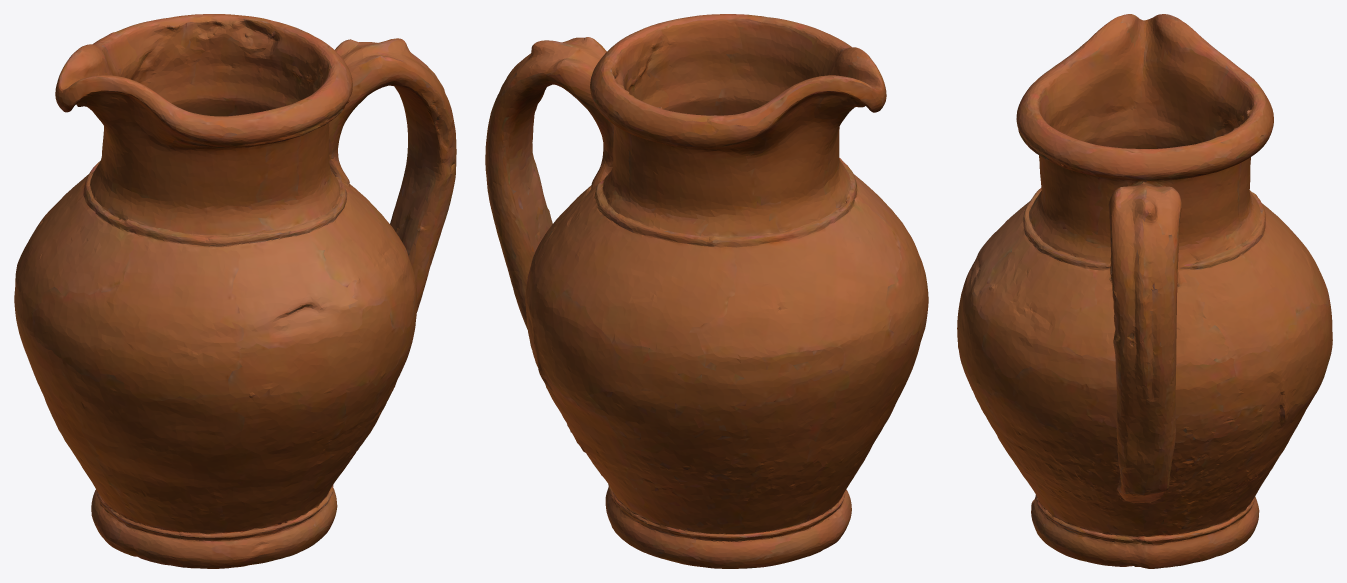
The model's file is prop_pottery_01.glb.
The picture shows the model from 3 angles, left to right: view 1: azimuth 30°, elevation 25°; view 2: azimuth 150°, elevation 25°; view 3: azimuth 270°, elevation 25°; orthographic projection. The views are drawn at different scales.
Parts seen in each view (by area): view 1: geometry_0; view 2: geometry_0; view 3: geometry_0.
Boxes of the visible parts, x1,y1,x2,y2 form: geometry_0: [14, 14, 456, 568]; geometry_0: [485, 14, 928, 568]; geometry_0: [957, 14, 1332, 568].
Bounding box in the file's own units: 0.8851 × 1 × 0.7507.
1 material, 1 textured.
